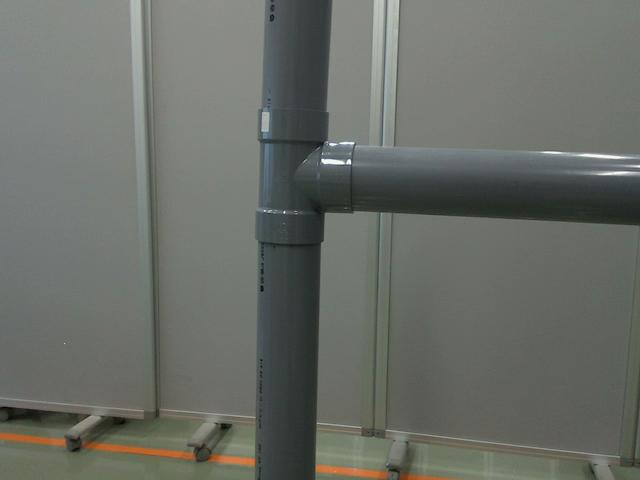junction: (251, 106, 354, 248)
